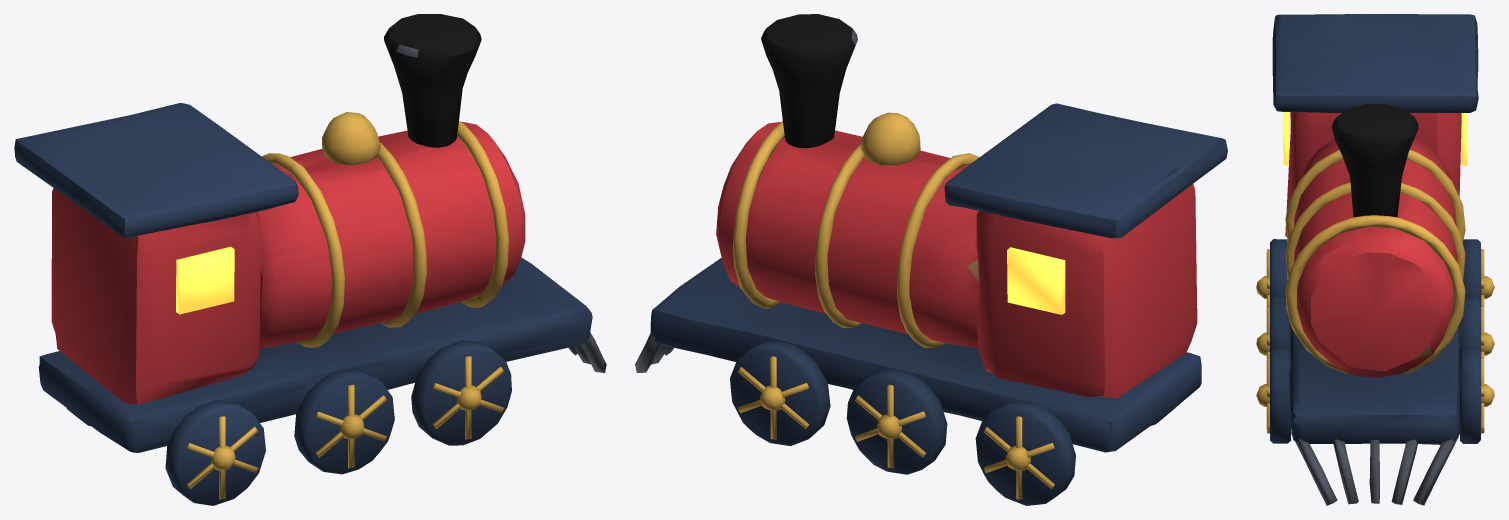
File: frost_toy_train_lod1.glb
3 renders of one model, left to right at view 1: azimuth 30°, elevation 25°; view 2: azimuth 150°, elevation 25°; view 3: azimuth 270°, elevation 25°, orthographic. The views are drawn at different scales.
Parts seen in each view (by area): view 1: frost_toy_train.001; view 2: frost_toy_train.001; view 3: frost_toy_train.001.
Part boxes in pixels (<box>): frost_toy_train.001: <box>14,14,606,505</box>; frost_toy_train.001: <box>635,14,1227,505</box>; frost_toy_train.001: <box>1256,14,1494,505</box>.
Size of the model in its own units: 20.56 by 13.99 by 9.14.
